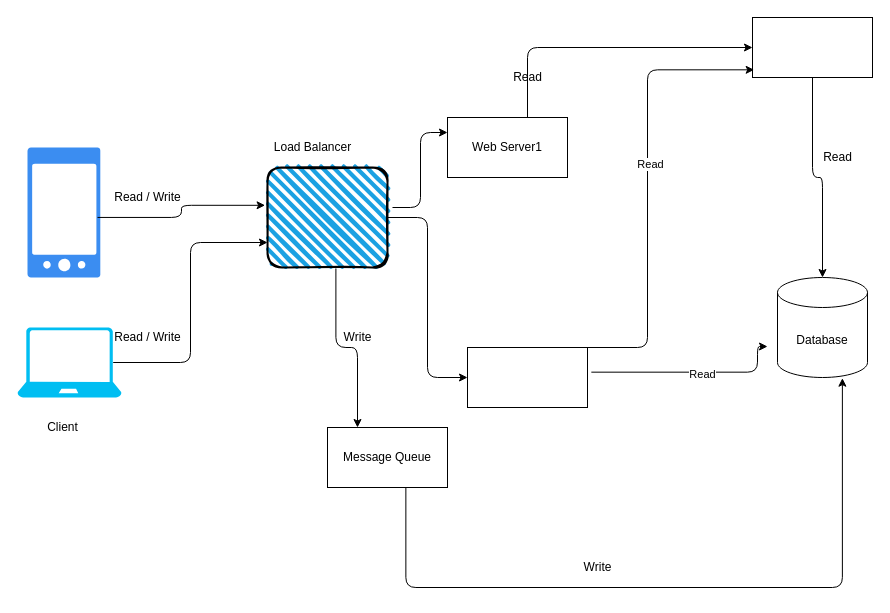
This 890x613 diagram has some shape labels left out. Here are the shapes that lost their labels. From the top down, the box of each, then its label:
(752, 16, 872, 78): Cache
(466, 346, 588, 408): Web Server2
